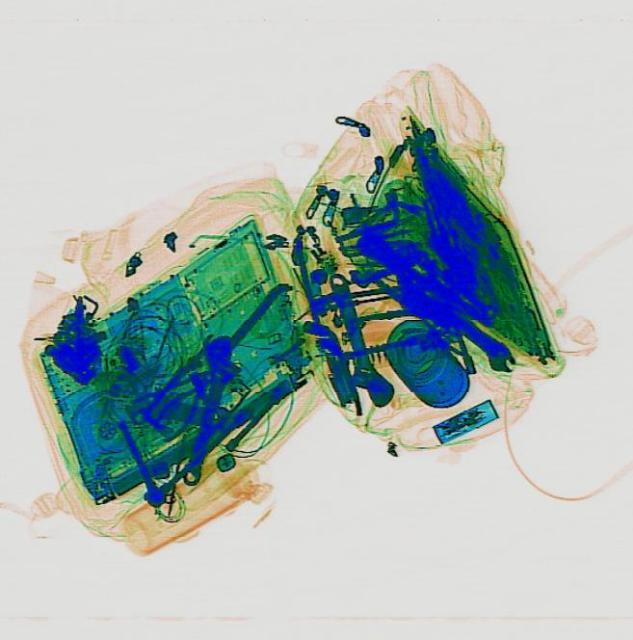Pliers: (135, 366, 221, 444)
Wrench: (163, 329, 248, 489), (315, 265, 394, 411), (441, 306, 519, 376), (118, 386, 227, 436)
